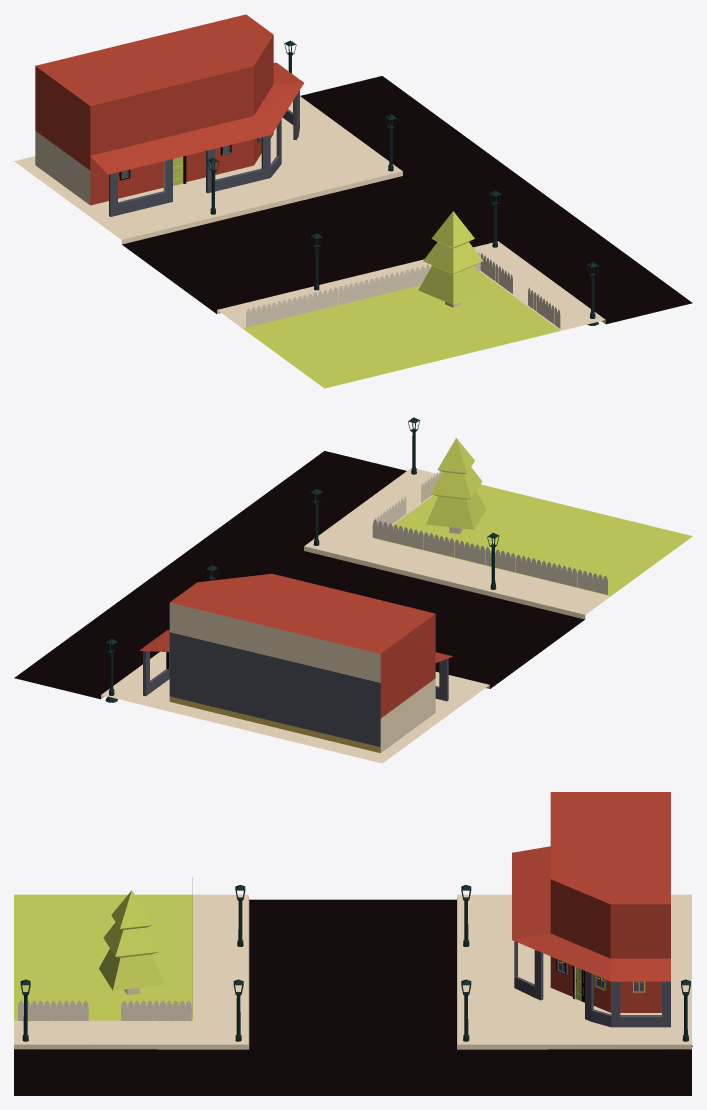
The model's file is test scene for graphics.obj.
3 views of the same model, one above another, from view 1: azimuth 30°, elevation 25°; view 2: azimuth 150°, elevation 25°; view 3: azimuth 270°, elevation 25° (orthographic). The views are drawn at different scales.
Visible parts, largest first — view 1: Ground_Plane, Some_Building_Cube.001, Cube_Cube.009, Plane.001_Plane.007, Plane.000_Plane.010; view 2: Ground_Plane, Some_Building_Cube.001, Plane.001_Plane.007, Cube_Cube.009, Plane.000_Plane.010, Plane.002_Plane.011; view 3: Ground_Plane, Some_Building_Cube.001, Cube_Cube.009, Plane.000_Plane.010.
Boxes of the visible parts, <box> form: Ground_Plane: <box>14,76,692,388</box>; Some_Building_Cube.001: <box>35,14,303,216</box>; Cube_Cube.009: <box>418,211,487,307</box>; Plane.001_Plane.007: <box>276,252,480,319</box>; Plane.000_Plane.010: <box>480,253,560,328</box>; Ground_Plane: <box>14,451,692,763</box>; Some_Building_Cube.001: <box>139,573,452,753</box>; Plane.001_Plane.007: <box>372,519,577,587</box>; Cube_Cube.009: <box>426,438,486,533</box>; Plane.000_Plane.010: <box>374,471,442,526</box>; Plane.002_Plane.011: <box>577,569,607,594</box>; Ground_Plane: <box>14,894,691,1095</box>; Some_Building_Cube.001: <box>512,792,670,1027</box>; Cube_Cube.009: <box>99,890,164,994</box>; Plane.000_Plane.010: <box>18,1000,191,1021</box>.
Size of the model in its own units: 20.02 by 5.46 by 29.27.
